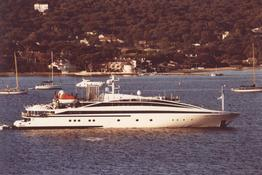yacht: (18, 69, 242, 129)
